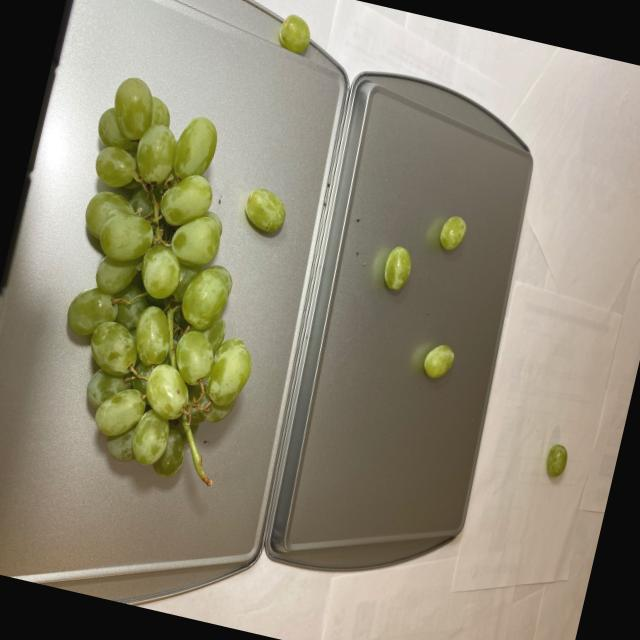grapes: (25, 70, 312, 488), (354, 203, 487, 390)
